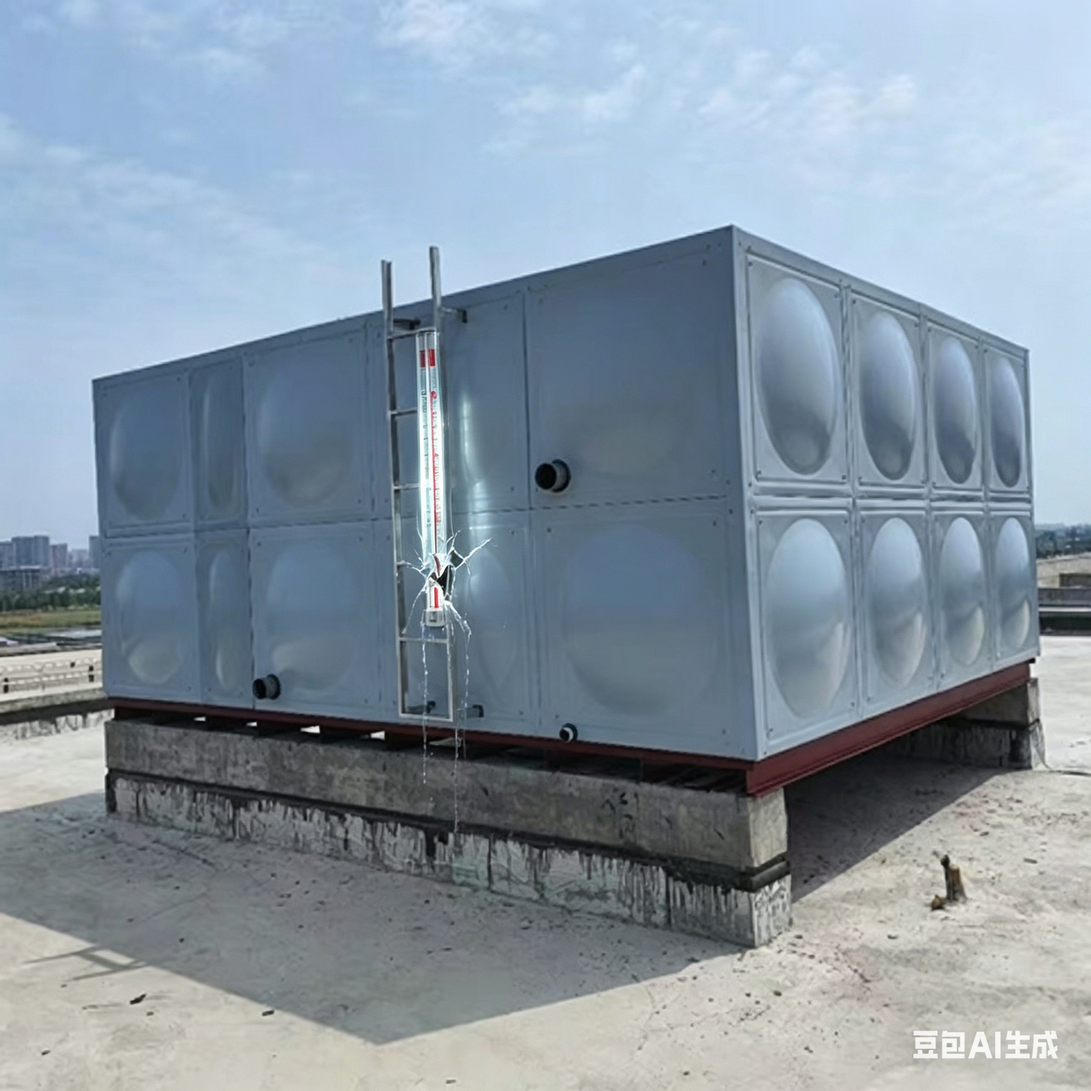Leakage: (375, 331, 483, 838)
